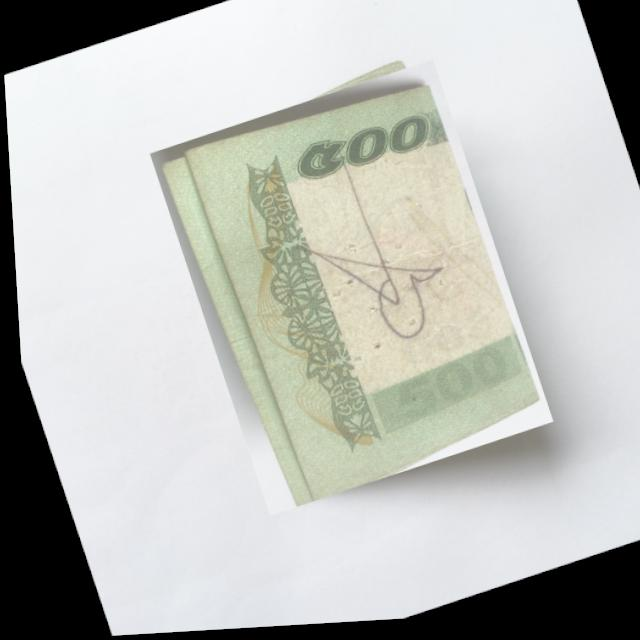Taka: (144, 60, 551, 522)
